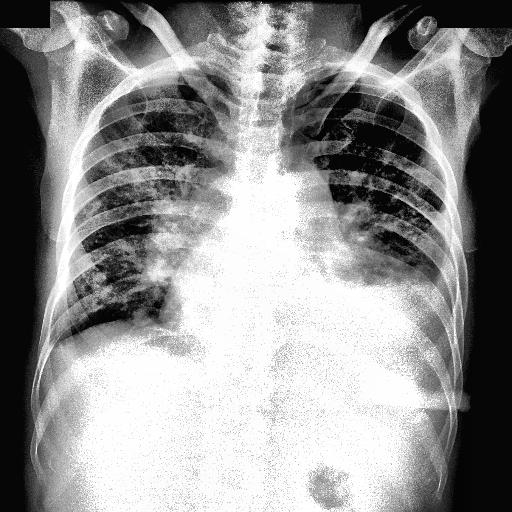0- Aortic enlargement: (202, 163, 330, 220), (280, 166, 344, 240)
10- Pleural effusion: (338, 214, 458, 338), (344, 238, 450, 368), (334, 251, 460, 348), (40, 336, 54, 360)
11- Pleural thickening: (358, 68, 402, 98), (40, 336, 54, 360)
13- Pulmonary fibrosis: (344, 134, 428, 233)
6- Infiltration: (80, 114, 210, 320), (77, 138, 177, 320), (344, 162, 440, 278), (344, 134, 428, 233), (351, 234, 435, 285)
7- Lung Opacity: (141, 194, 208, 292), (351, 234, 435, 285), (354, 259, 432, 290)
9- Other lesion: (77, 138, 177, 320), (344, 134, 428, 233), (145, 203, 194, 283)
